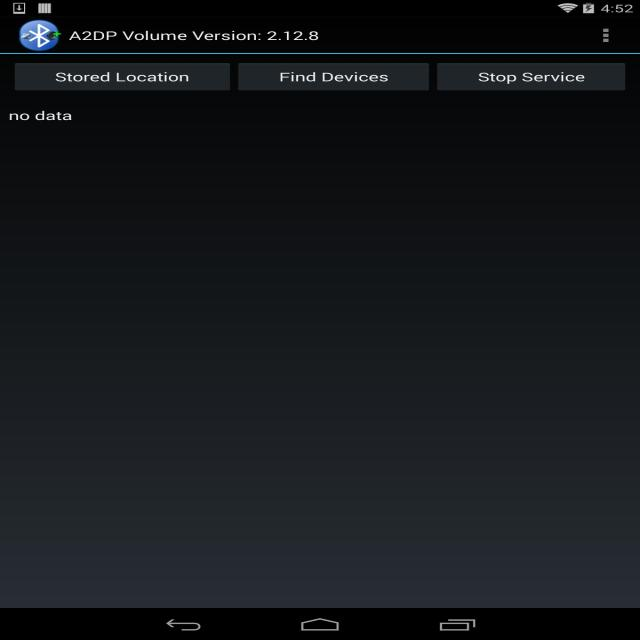button: (16, 63, 229, 91), (239, 62, 428, 90), (436, 64, 624, 90), (596, 25, 618, 47)
heading: (65, 28, 322, 45)
image: (18, 20, 58, 51)
text: (8, 110, 77, 125)
